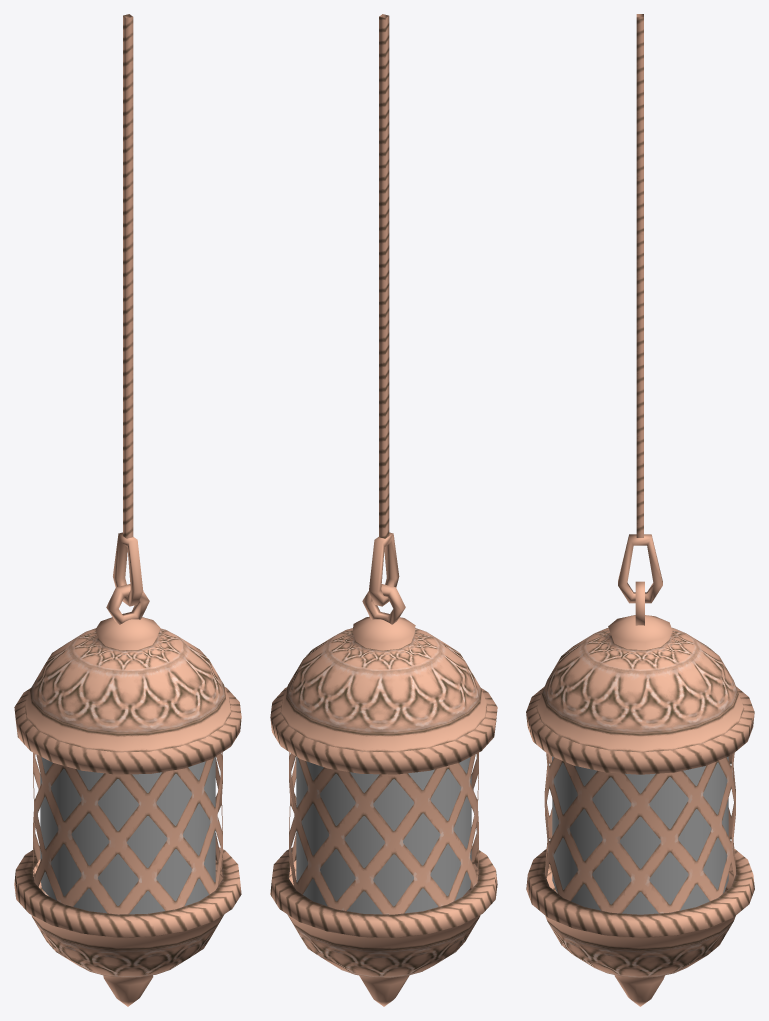
Rendered from Latern_Hanging.fbx.
3 views of the same model, side by side, from view 1: azimuth 30°, elevation 25°; view 2: azimuth 150°, elevation 25°; view 3: azimuth 270°, elevation 25° (orthographic).
Visible parts, largest first — view 1: lantern; view 2: lantern; view 3: lantern.
Part boxes in pixels (<box>): lantern: <box>14,14,241,1006</box>; lantern: <box>270,14,497,1006</box>; lantern: <box>526,14,754,1006</box>.
Size of the model in its own units: 20.25 by 96.87 by 20.27.
